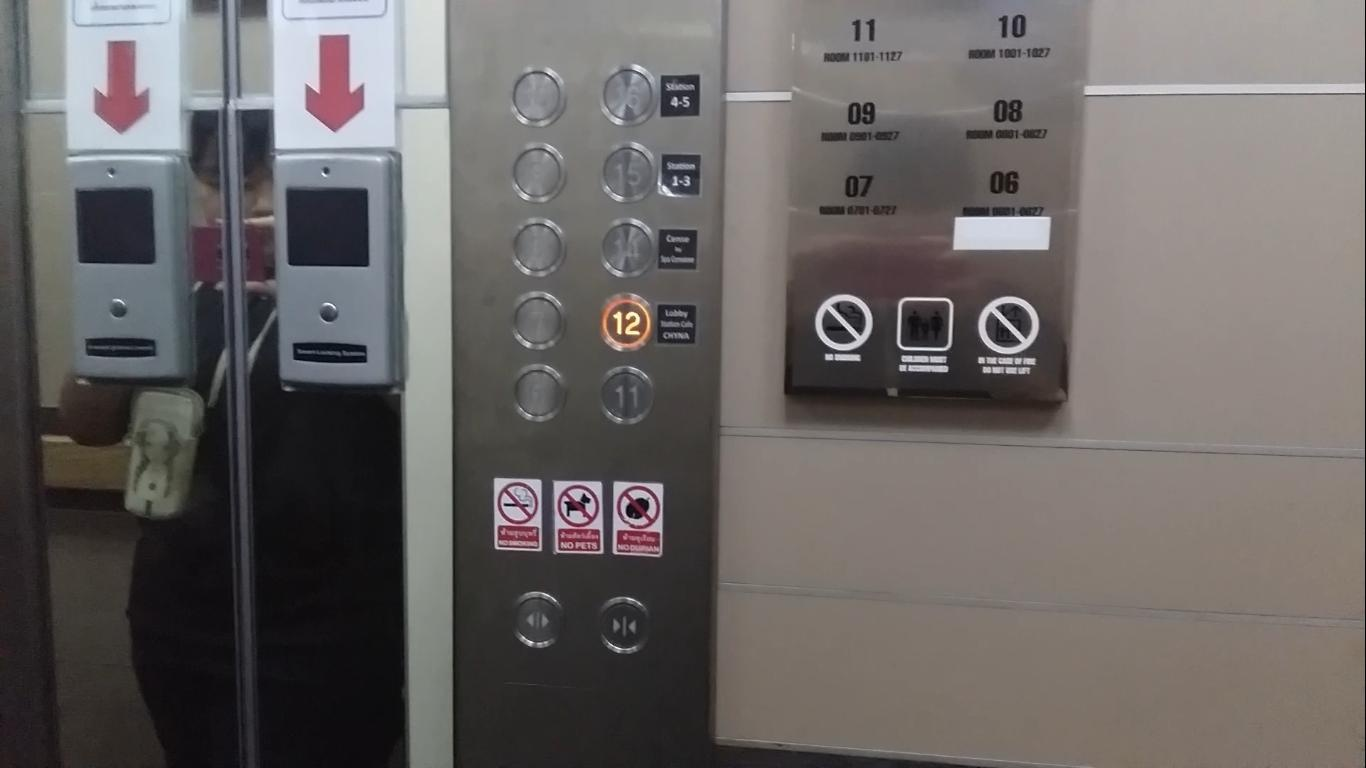11: (597, 365, 655, 426)
12: (596, 291, 654, 352)
14: (598, 216, 656, 277)
15: (598, 139, 657, 202)
16: (598, 63, 657, 127)
blur: (507, 289, 568, 353), (508, 215, 568, 278), (508, 142, 568, 204), (509, 363, 569, 424)
close: (594, 593, 654, 654)
empty: (506, 64, 567, 128)
open: (506, 589, 566, 650)
